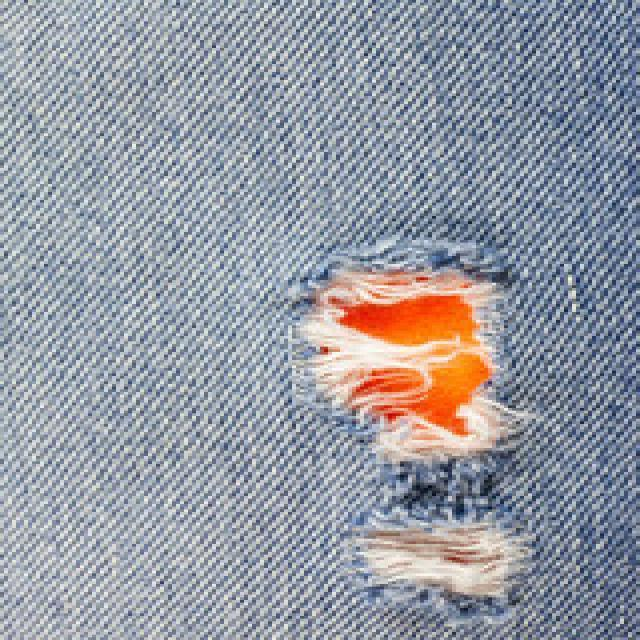Hole: (304, 240, 508, 462), (363, 525, 525, 598)
